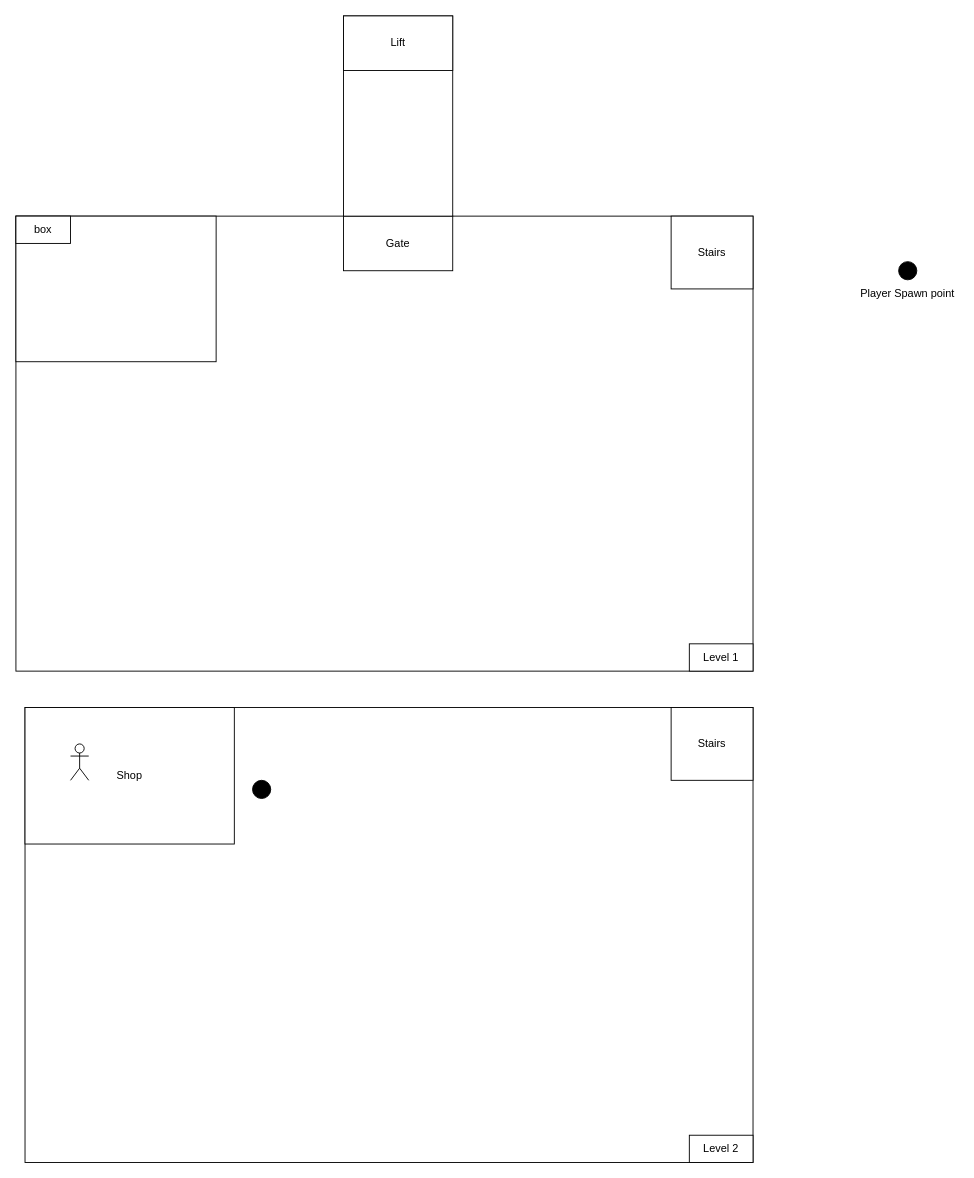
Some shapes in this 974 by 1178 pixel diagram are drawn without their labels. The box of each missing label's shape, as (x1, y1, x2, y2) in pixels:
Merchant: (70, 743, 89, 780)
Prison: (15, 215, 216, 362)
